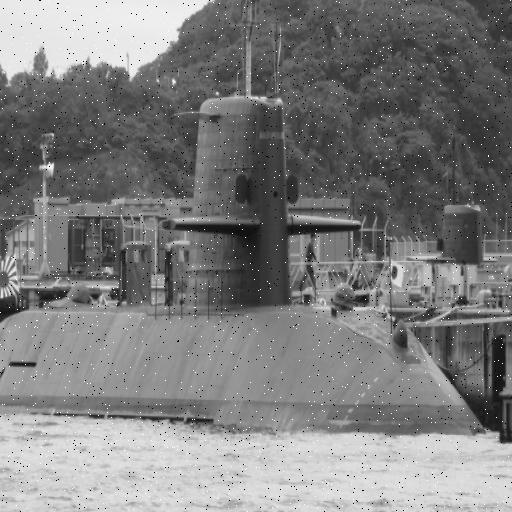submarine: (1, 92, 490, 433)
